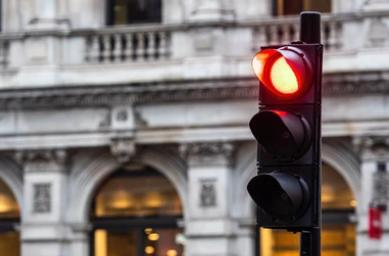red_light: (246, 43, 318, 229)
